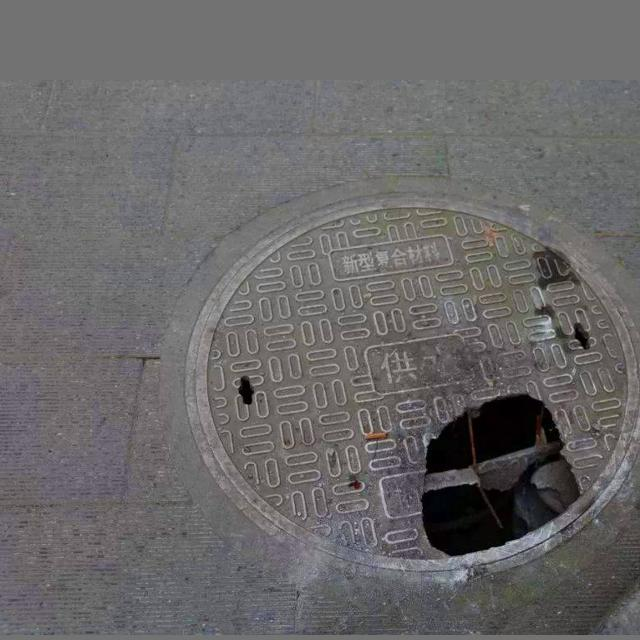broke: (182, 202, 639, 570)
